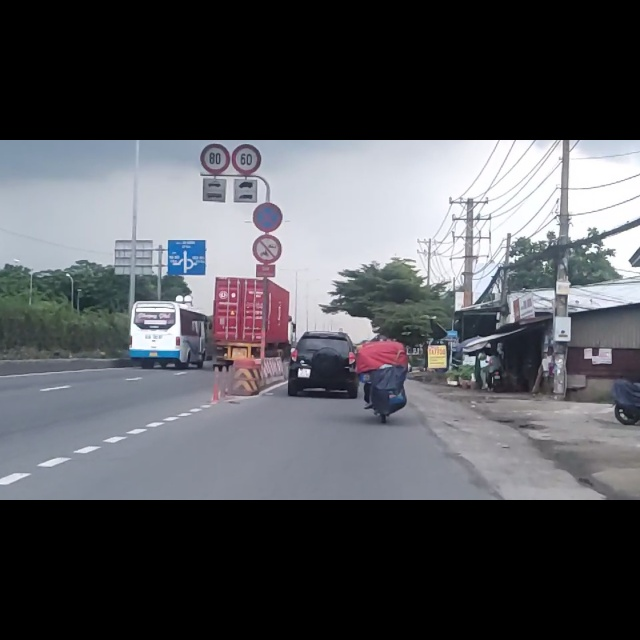bien_chi_dan: (251, 166, 283, 219), (252, 110, 283, 164), (199, 6, 230, 60), (232, 7, 262, 62)
